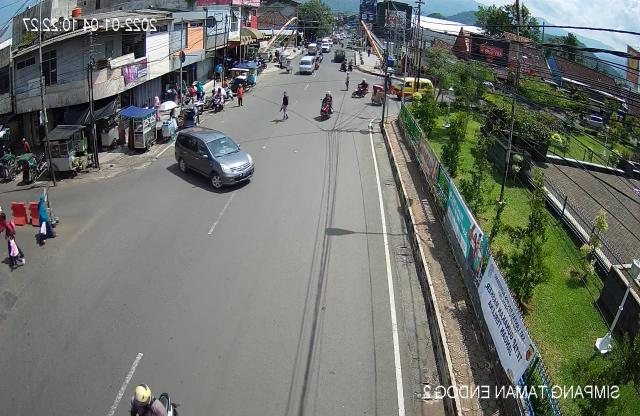Mobil: (170, 120, 257, 190)
Motor: (312, 88, 339, 122)
